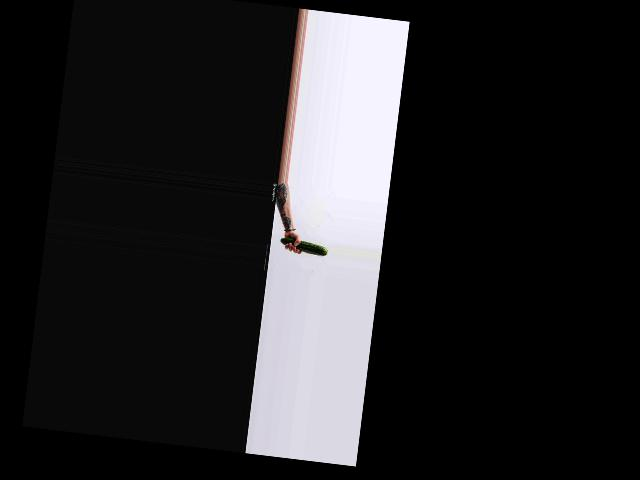cucumber: (279, 237, 328, 257)
